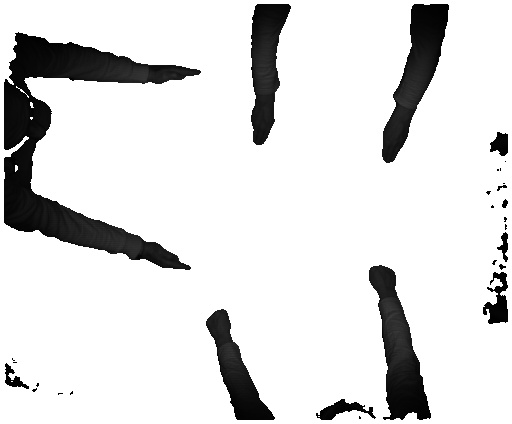fist: (200, 304, 235, 342), (368, 264, 399, 292)
hand: (376, 122, 413, 167), (248, 104, 279, 151)
spine: (144, 241, 191, 271), (151, 64, 207, 87)
